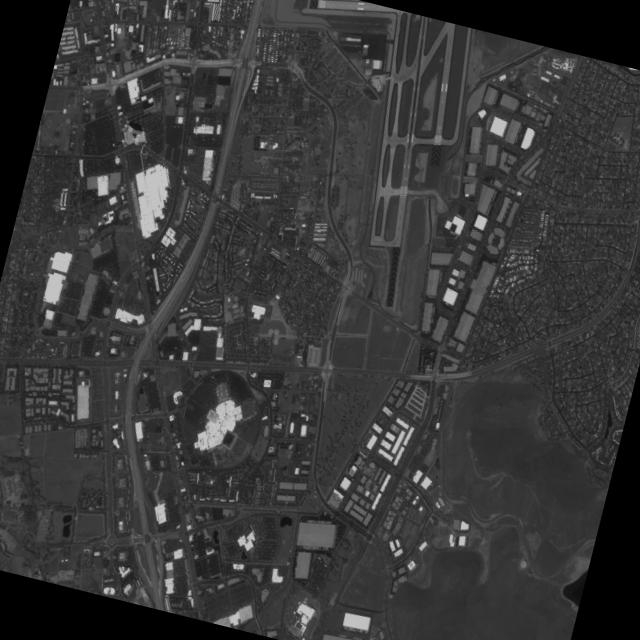storage-tank: (518, 559, 528, 570)
